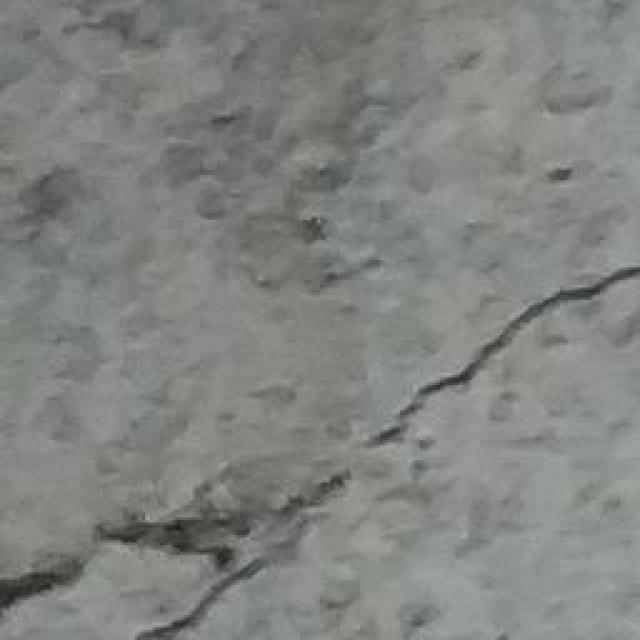Radial: (8, 251, 640, 640)
